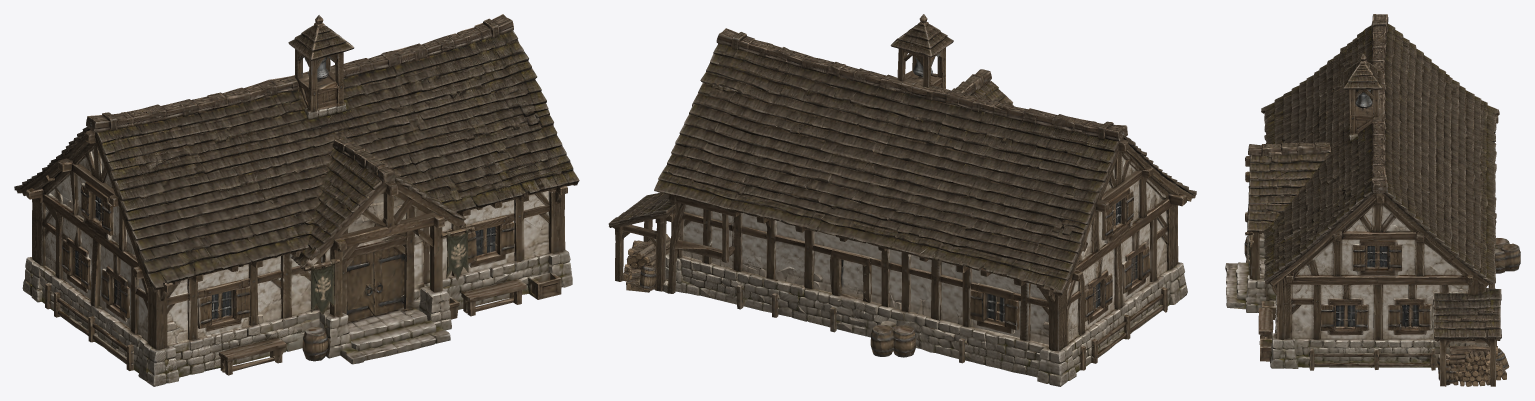
The model's file is hall.glb.
3 renders of one model, left to right at view 1: azimuth 30°, elevation 25°; view 2: azimuth 150°, elevation 25°; view 3: azimuth 270°, elevation 25°, orthographic. The views are drawn at different scales.
Size of the model in its own units: 1.9 by 1.08 by 1.22.
Materials: 1 (1 with a texture image).
